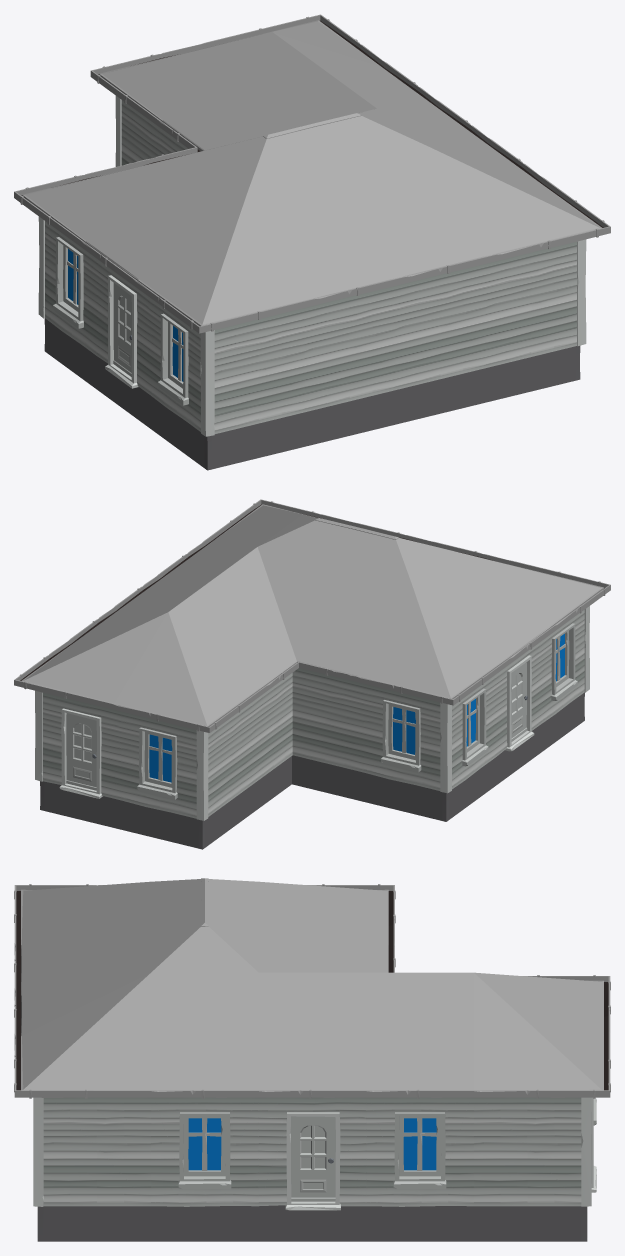
The model's file is SM_Bld_House_Preset_06.fbx.
The picture shows the model from 3 angles, top to bottom: view 1: azimuth 30°, elevation 25°; view 2: azimuth 150°, elevation 25°; view 3: azimuth 270°, elevation 25°; orthographic projection. The views are drawn at different scales.
Visible parts, largest first — view 1: SM_Bld_House_Preset_06; view 2: SM_Bld_House_Preset_06; view 3: SM_Bld_House_Preset_06.
Boxes of the visible parts, x1,y1,x2,y2 form: SM_Bld_House_Preset_06: [14, 14, 610, 470]; SM_Bld_House_Preset_06: [14, 499, 610, 849]; SM_Bld_House_Preset_06: [14, 878, 610, 1241].
Size of the model in its own units: 1137 by 636 by 1387.
